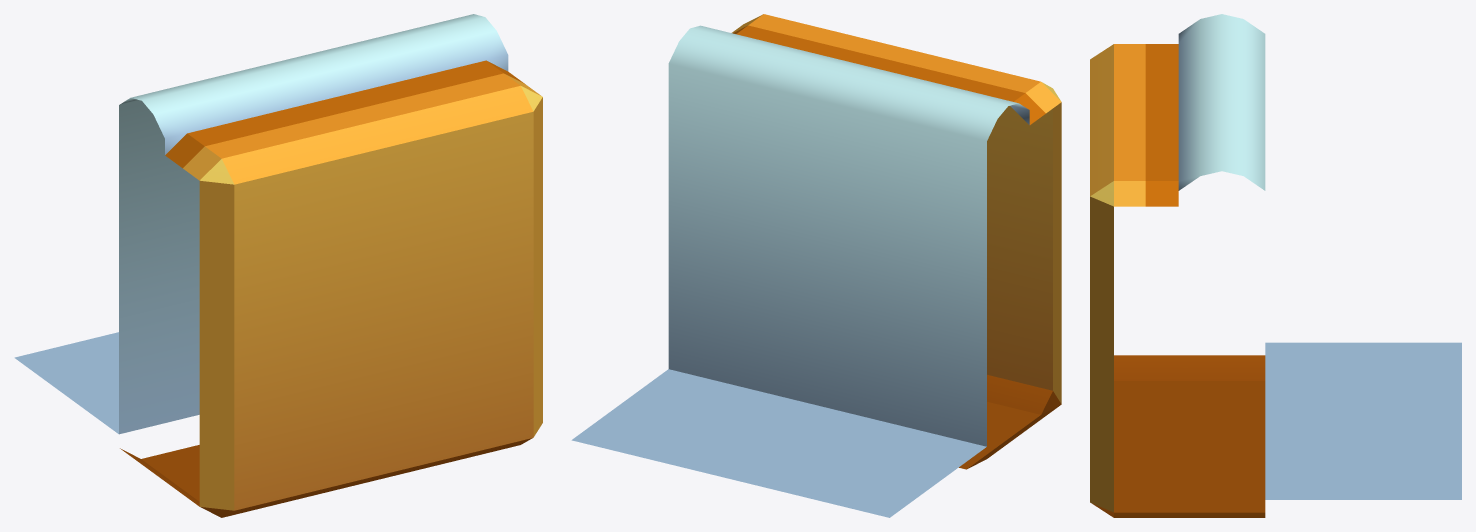
Rendered from pool_3.fbx.
The picture shows the model from 3 angles, left to right: view 1: azimuth 30°, elevation 25°; view 2: azimuth 150°, elevation 25°; view 3: azimuth 270°, elevation 25°; orthographic projection. The views are drawn at different scales.
Visible parts, largest first — view 1: pool_3; view 2: pool_3; view 3: pool_3.
Part boxes in pixels (bbox=[...]): pool_3: bbox=[14, 14, 542, 517]; pool_3: bbox=[571, 14, 1061, 517]; pool_3: bbox=[1090, 14, 1461, 517].
Bounding box in the file's own units: 2 × 2.12 × 2.
